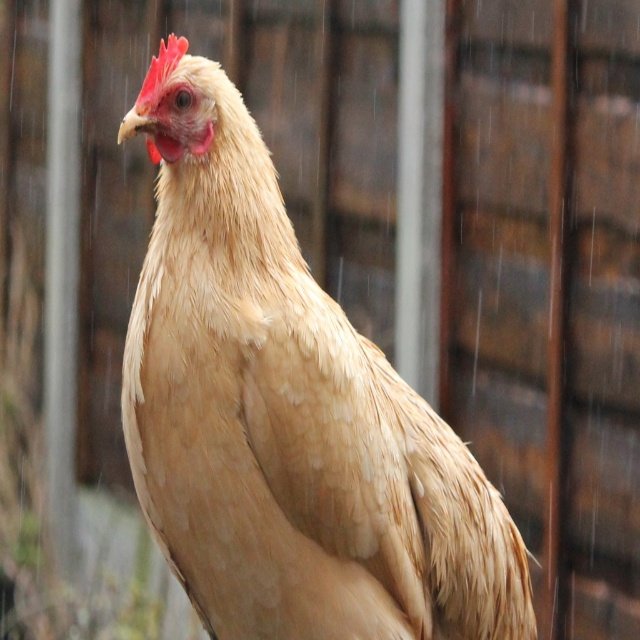Chicken: (117, 31, 543, 640)
